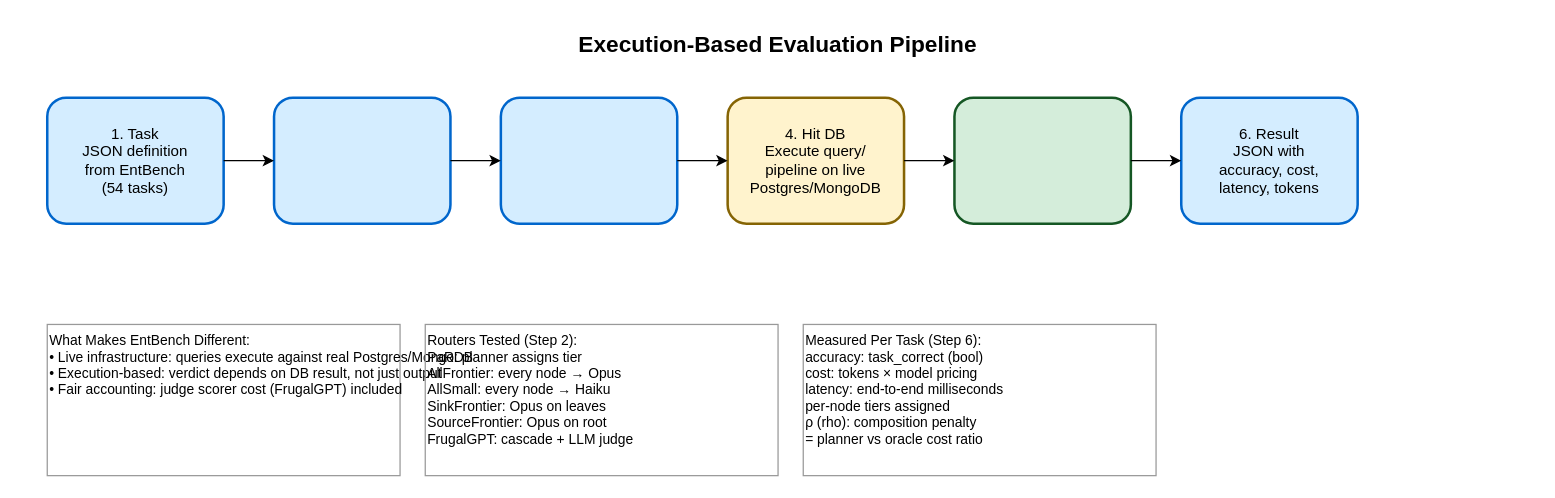
Some shapes in this 1555 by 498 pixel diagram are drawn without their labels. The shapes that lost their labels are listed below. From the top down, each one's box as (x1, y1, x2, y2) in pixels, then its label:
(272, 96, 451, 224): 2. Plan & Route Decompose into subtasks, assign tier per router
(499, 96, 678, 224): 3. Execute Specialist runs with tier-specific model (H,S,O)
(953, 96, 1131, 224): 5. Evaluate Task-specific scorer: F1, accuracy, exact
